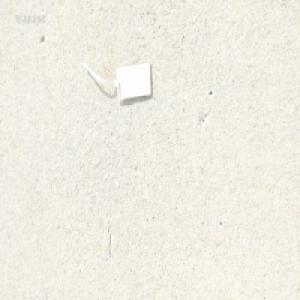LuggageTag: (81, 58, 153, 104)
